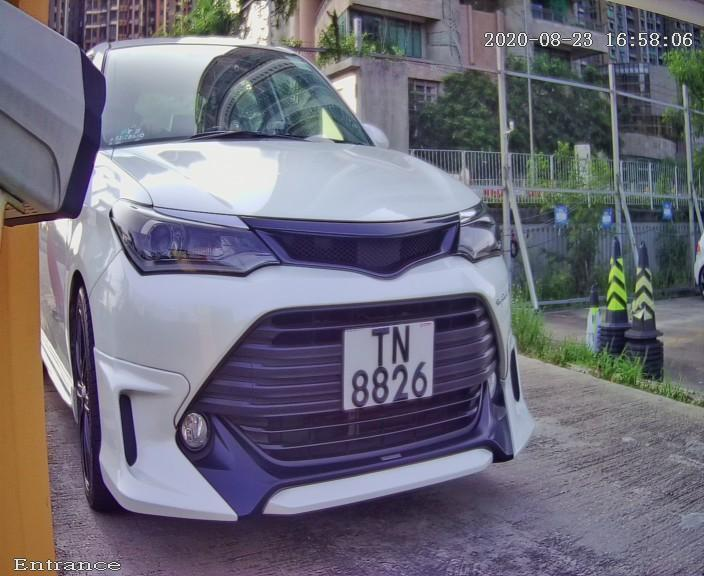Car: (41, 1, 576, 566)
License Plate: (315, 301, 452, 444)
